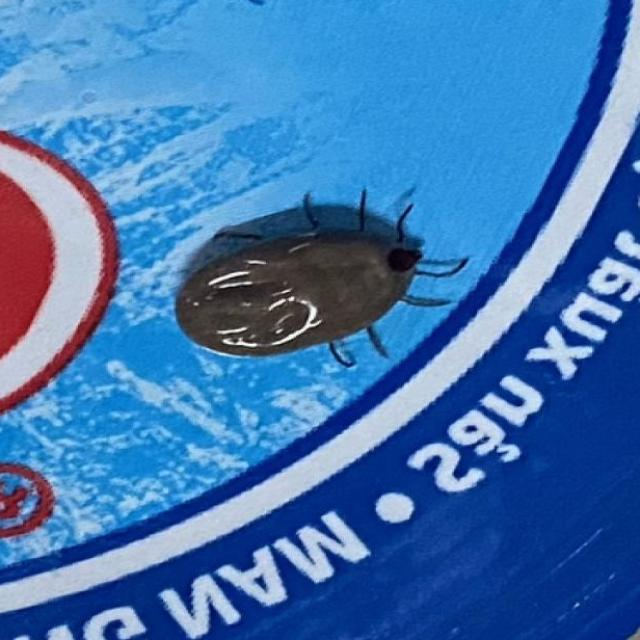Rhipicephalus Sanguineus-F-Fed: (175, 190, 470, 369)
